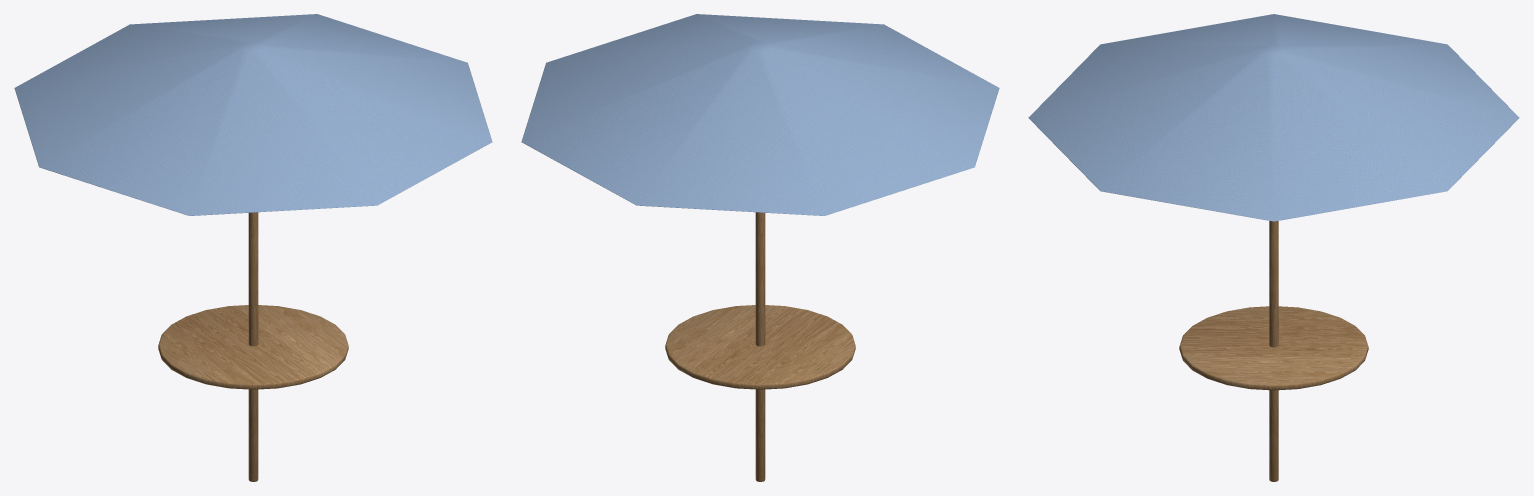
Rendered from prop_cafe_patio_aaa-f66a7f00363e.glb.
3 renders of one model, left to right at view 1: azimuth 30°, elevation 25°; view 2: azimuth 150°, elevation 25°; view 3: azimuth 270°, elevation 25°, orthographic.
Visible parts, largest first — view 1: Canopy, Mesh_Cedar_Slats; view 2: Canopy, Mesh_Cedar_Slats; view 3: Canopy, Mesh_Cedar_Slats.
Part boxes in pixels (box(x1,y1,x2,y2)): Canopy: box(14, 14, 492, 215); Mesh_Cedar_Slats: box(158, 212, 348, 481); Canopy: box(521, 14, 999, 215); Mesh_Cedar_Slats: box(665, 212, 855, 481); Canopy: box(1028, 14, 1519, 221); Mesh_Cedar_Slats: box(1179, 221, 1368, 481).
Bounding box in the file's own units: 2.49 × 2.41 × 2.49.
Materials: 2 (2 with a texture image).
